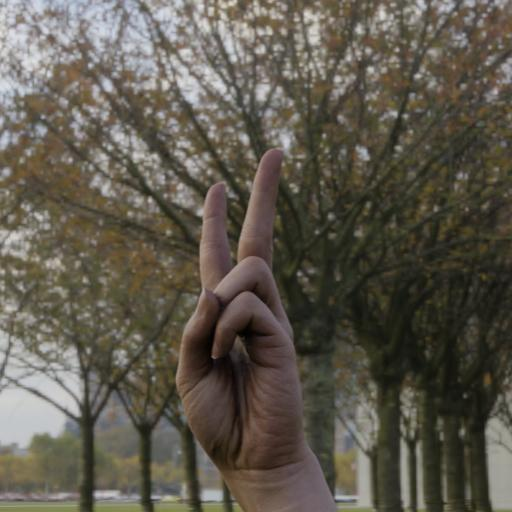V: (169, 143, 316, 475)
